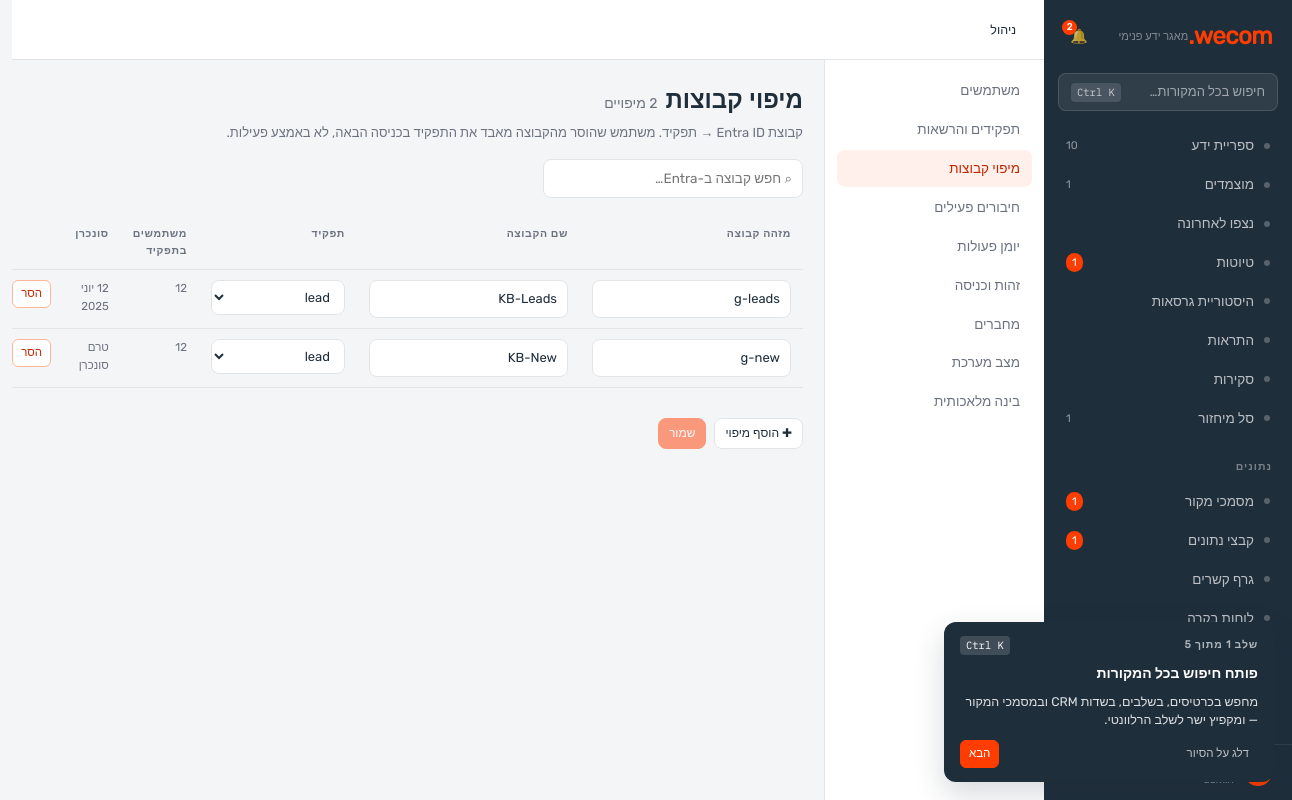
Test: admin · groups → roles › shows how many users each mapped role already reaches, and removes a row
This screenshot has width=1292, height=800.
Expected: the text "12" next to "12 יוני 2025" is shown, [175,281,187,295]
Click the button with aria-label "הסר מיפוי 1": (32, 294) [12,280,51,308]
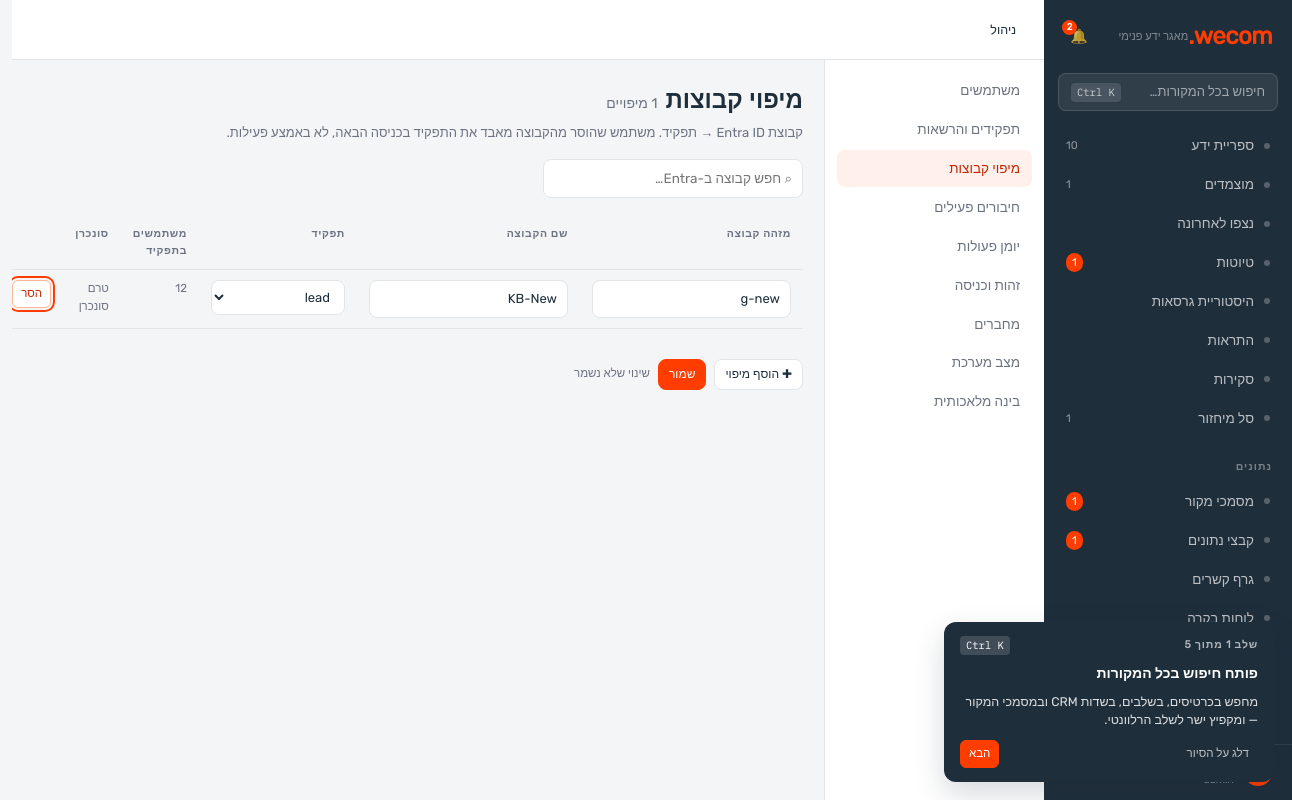
Click the button with aria-label "הסר מיפוי 1": (32, 294) [12,280,51,308]
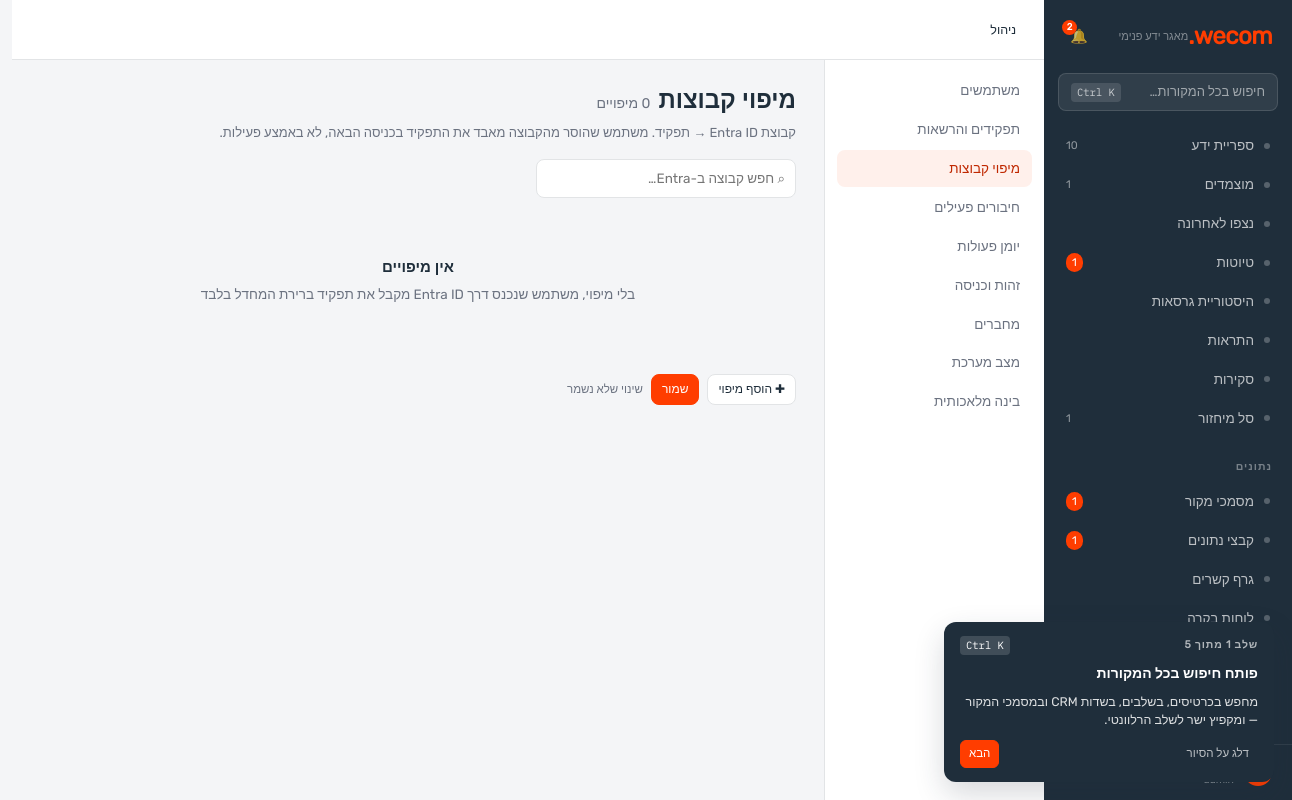
Result: the text "אין מיפויים" is shown at [382,258,454,276]
